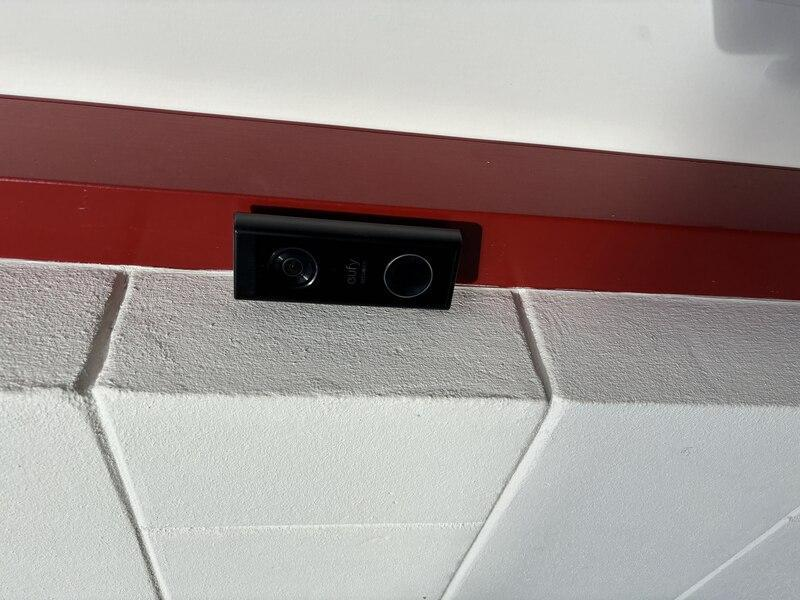doorbell: (282, 209, 399, 475)
